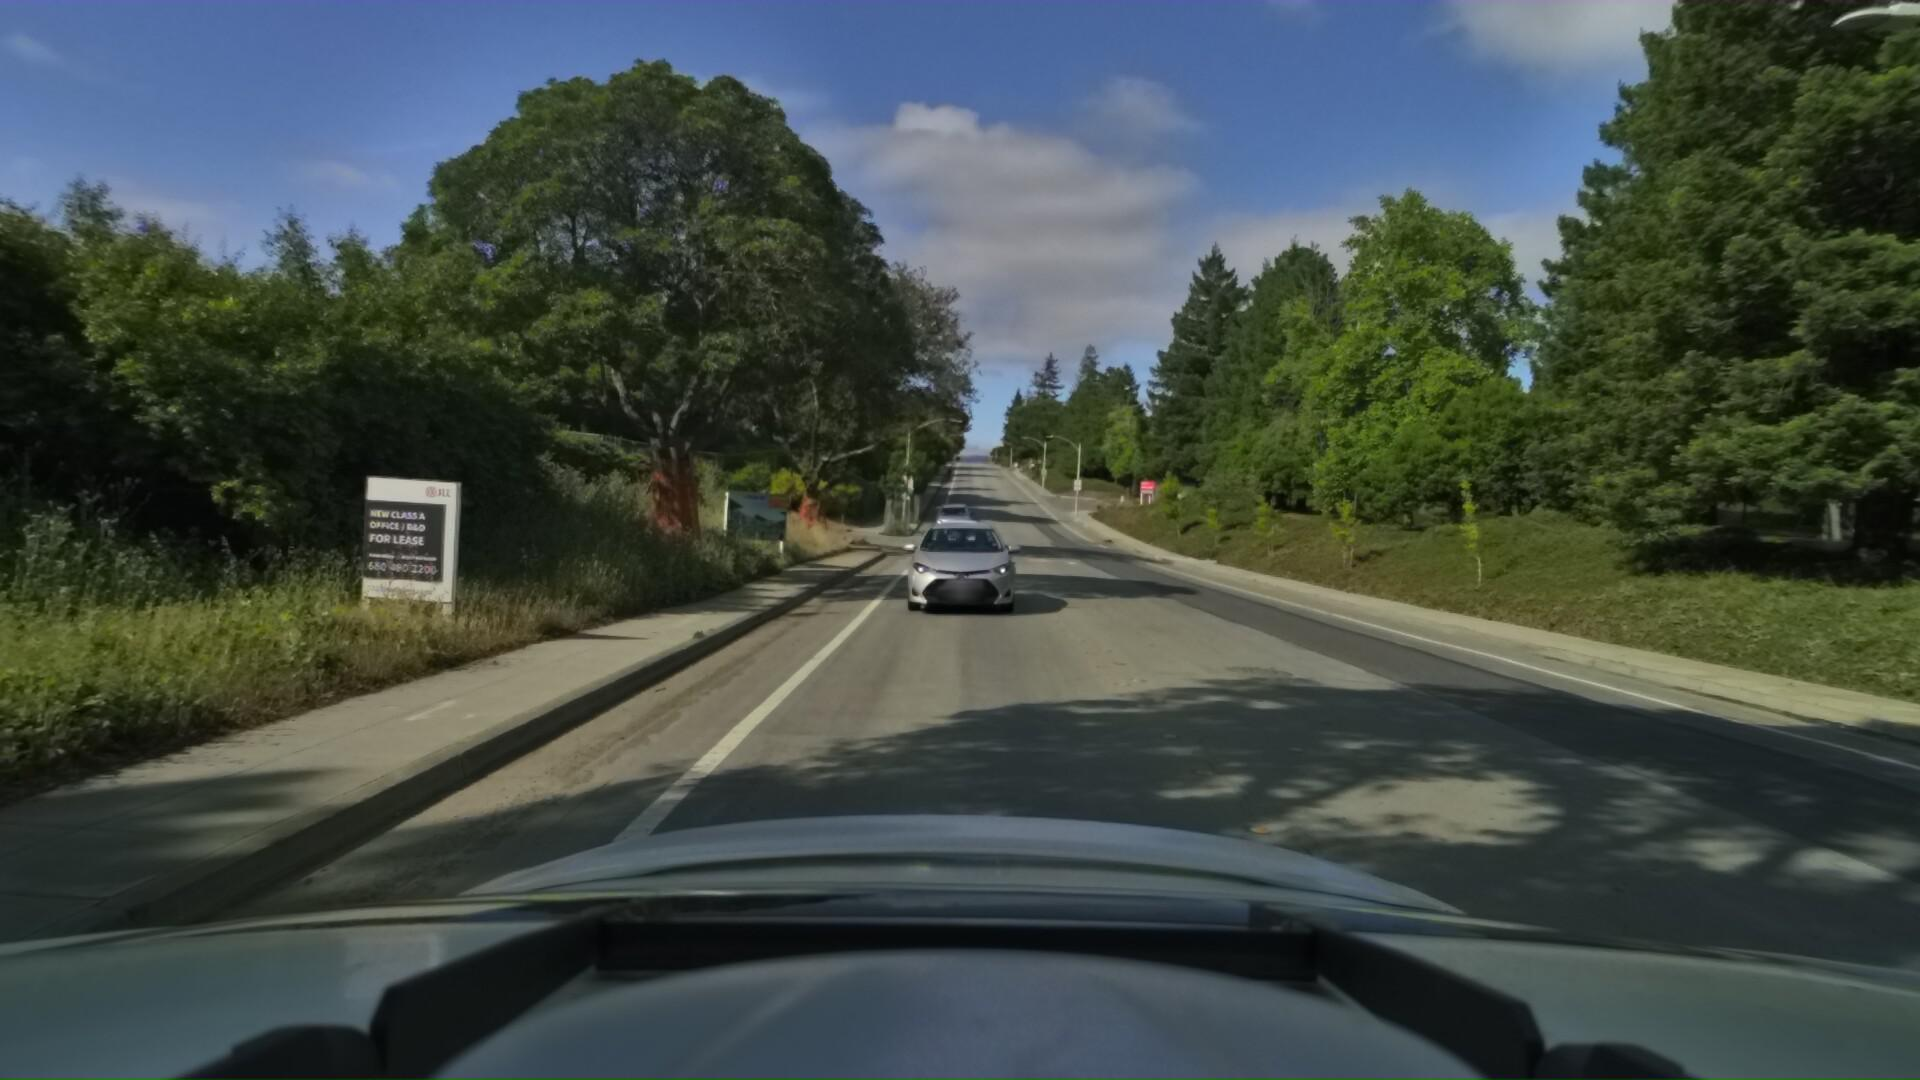car: (895, 510, 1021, 622), (924, 509, 989, 566), (927, 498, 969, 535)
